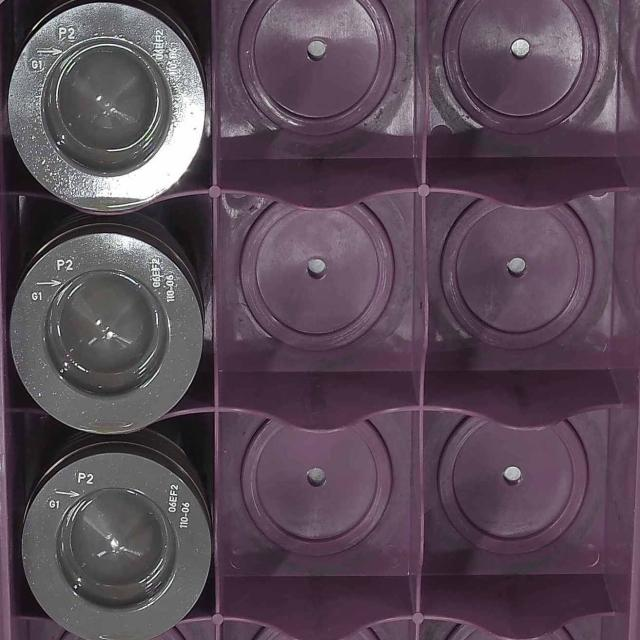P2: (10, 222, 198, 436), (7, 6, 205, 206), (22, 453, 212, 640)
